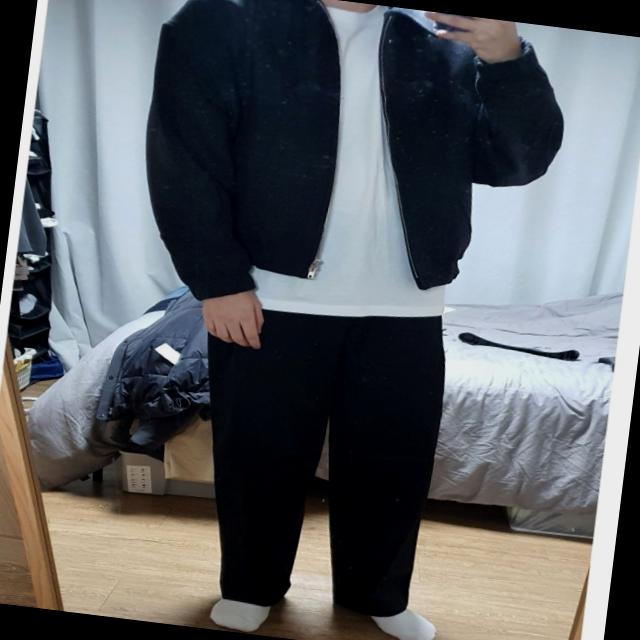jacket: (126, 0, 579, 337)
slacks: (183, 282, 460, 622)
